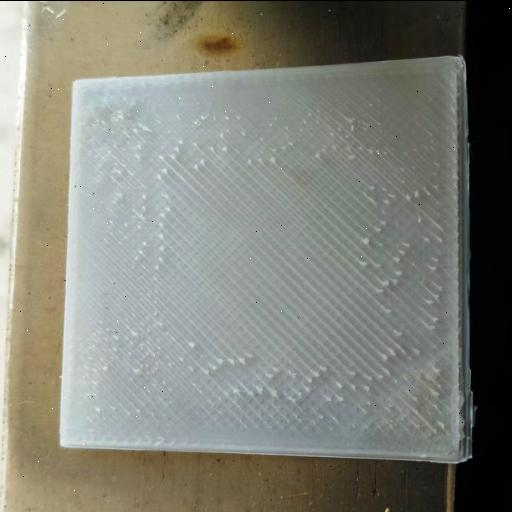blobs: (368, 138, 442, 341), (190, 108, 340, 176), (178, 333, 270, 403), (110, 188, 176, 280), (292, 361, 392, 409)
